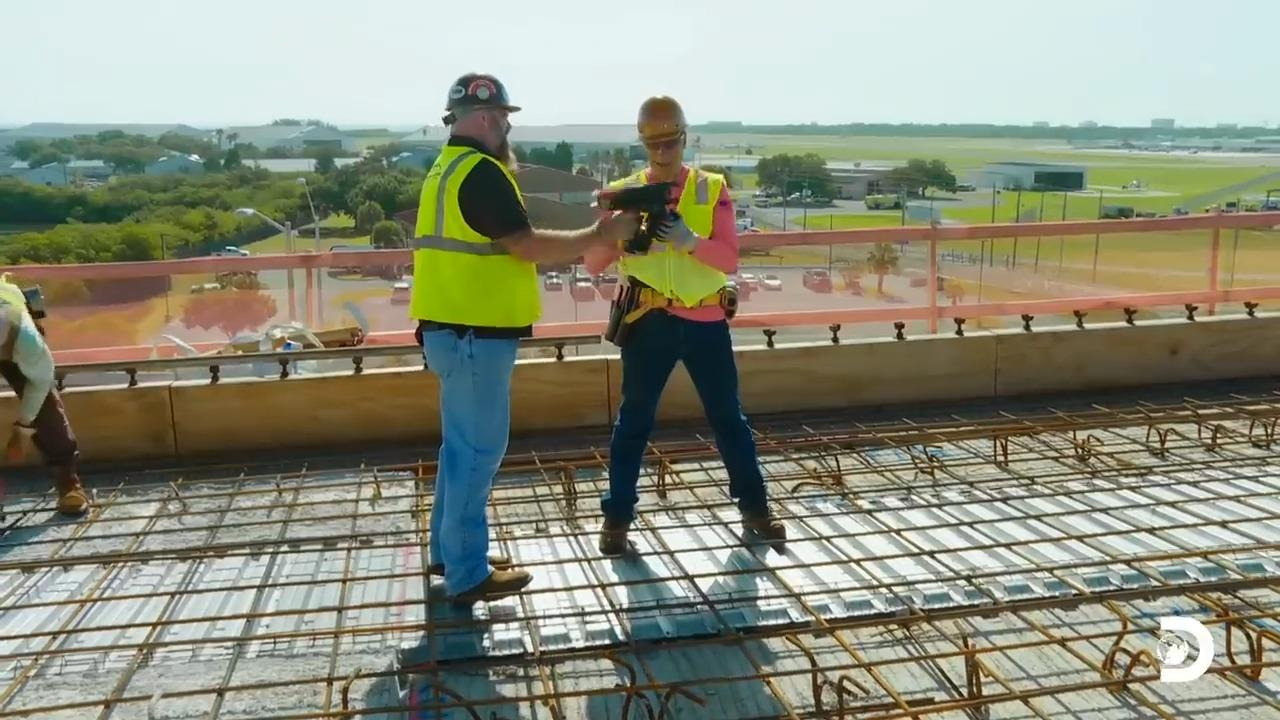Gloves: (653, 208, 700, 255)
Safety Boot: (448, 565, 532, 606), (740, 510, 786, 547), (597, 516, 630, 558)
Safety Vest: (416, 160, 527, 333), (620, 184, 713, 302)
bare-arms: (592, 213, 637, 252)
no-helmet: (441, 71, 520, 121), (635, 94, 688, 145)
